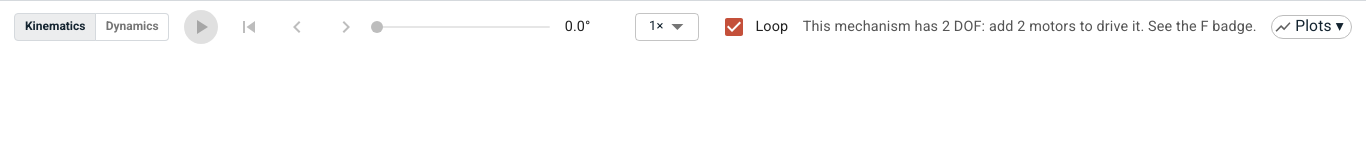
Test: Transport: dynamics analysis › reports where integration stopped, and flags redundant constraints
Click the button "Dynamics": (132, 27) x1=95 y1=13 x2=169 y2=41
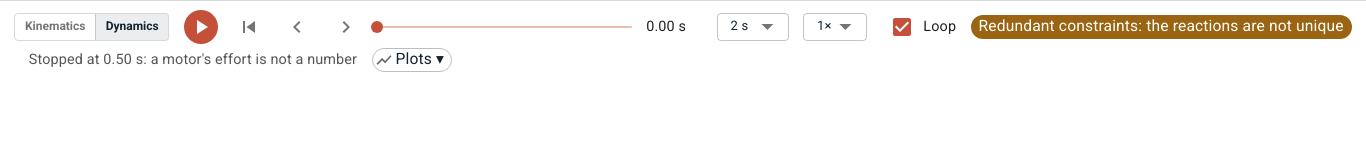
Check: the text "Stopped at 0.50 s: a motor's effort is not a number" is shown, box x1=29 y1=48 x2=357 y2=72
Check: the text "Redundant constraints: the reactions are not unique" is shown, box x1=971 y1=15 x2=1352 y2=38
